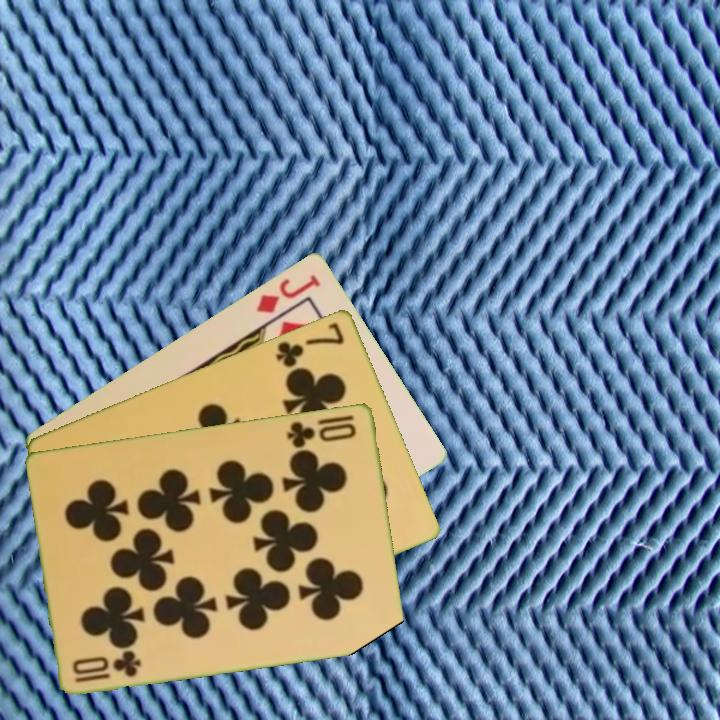10c: (69, 648, 145, 685), (283, 417, 360, 451)
7c: (272, 318, 347, 370)
Jd: (252, 270, 324, 316)
